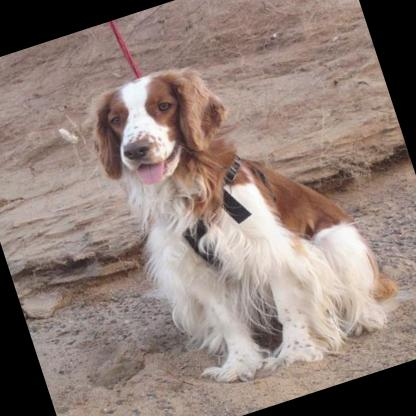Welsh_springer_spaniel: (78, 22, 408, 409)
